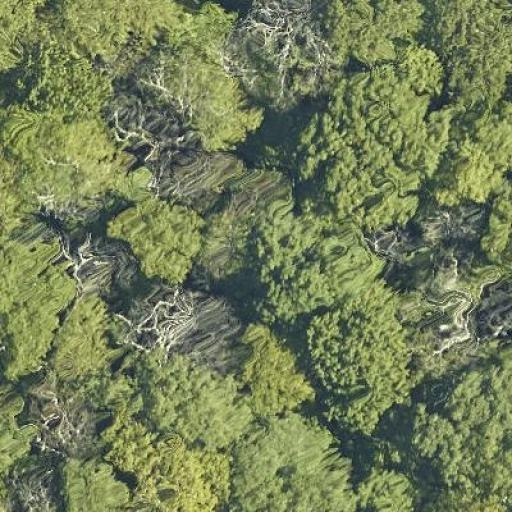tree-top: (295, 71, 446, 226), (239, 207, 379, 315), (309, 293, 412, 426), (415, 368, 508, 507), (228, 413, 355, 512), (238, 0, 354, 102), (10, 113, 126, 211), (156, 54, 261, 147), (1, 240, 69, 378), (111, 436, 234, 512), (406, 272, 493, 376), (130, 279, 234, 363), (150, 361, 249, 447), (432, 2, 507, 101), (28, 367, 107, 459), (58, 0, 184, 56), (119, 203, 206, 283), (442, 103, 506, 206), (325, 1, 432, 61), (240, 332, 310, 418), (50, 296, 118, 382), (26, 60, 114, 126), (154, 136, 234, 203), (58, 452, 132, 512), (66, 235, 133, 296), (0, 387, 36, 486), (356, 460, 423, 512), (0, 3, 41, 76), (478, 186, 512, 273), (402, 41, 450, 102)
